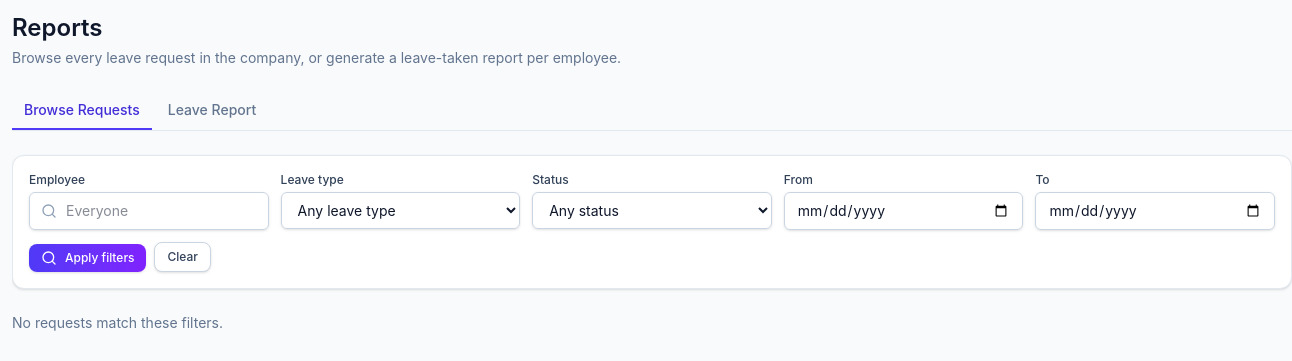
HrReportsPage › Leave Report tab › shows an empty-state message when nobody took leave in the period
Click the tab "Leave Report".
click(212, 111)  # box [156,92,268,130]
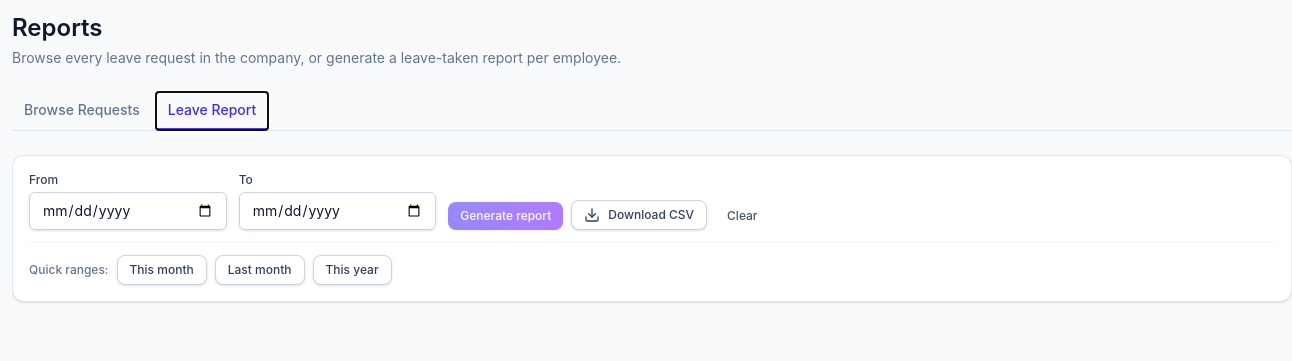
Type "2031-01-01" into the date field labelled "From".
click(128, 211); type("2031-01-01")  # box [29,192,227,230]
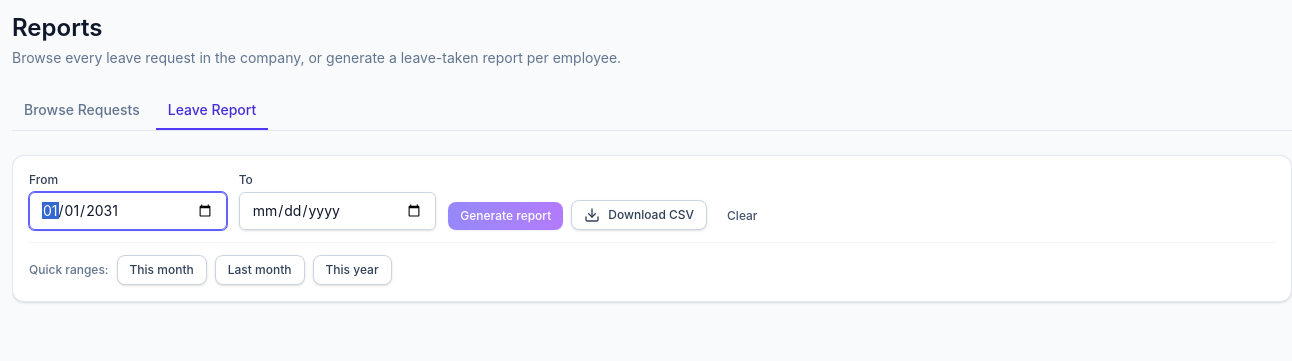
Type "2031-01-31" into the date field labelled "To".
click(338, 211); type("2031-01-31")  # box [239,192,436,230]
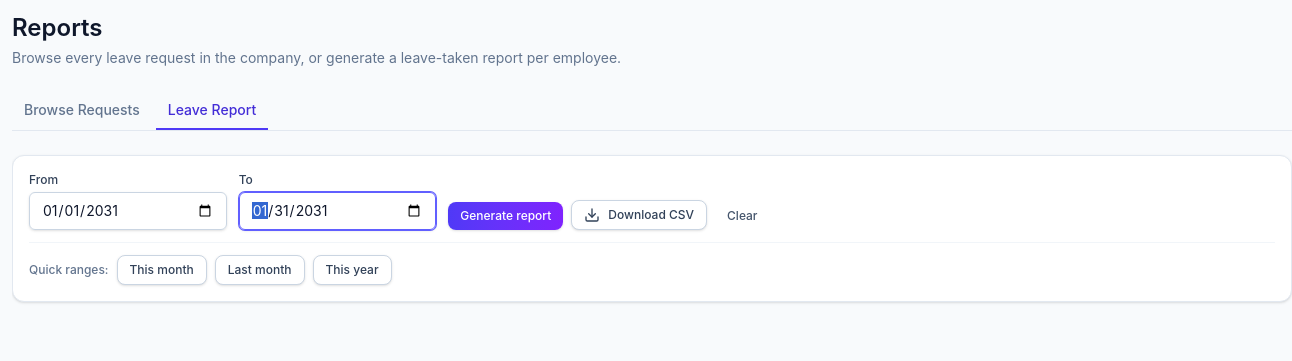
Click the button "Generate report".
click(506, 216)  # box [448,202,563,230]
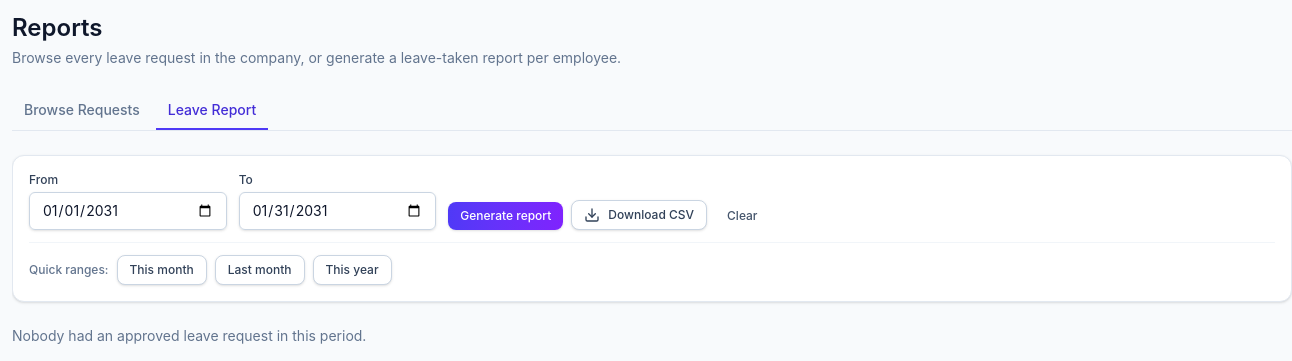
Now the text "Nobody had an approved leave request in this period." is shown, box [12,327,366,344]
